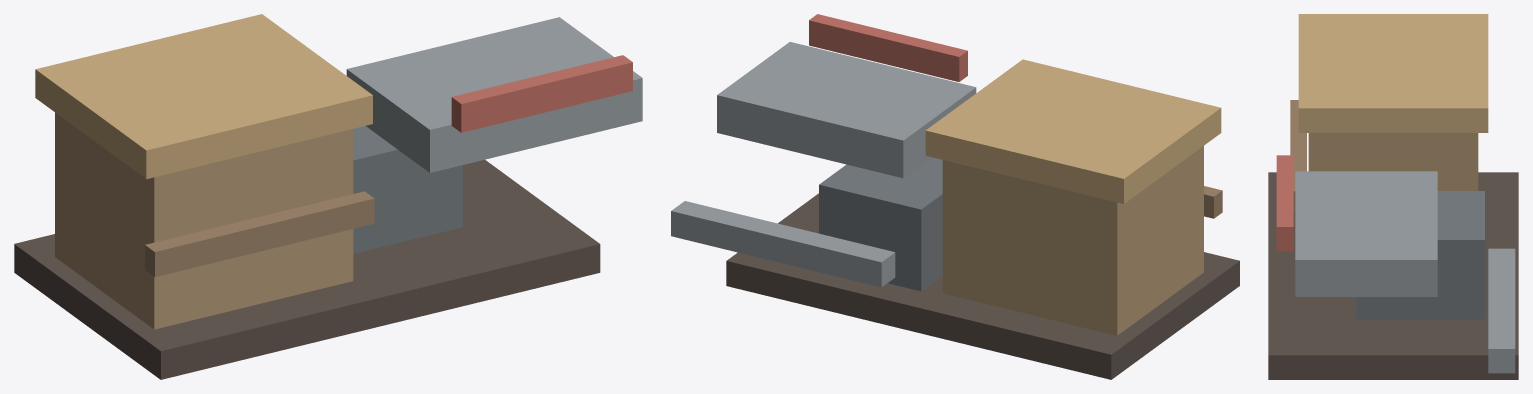
The model's file is cantina_crate_scrap_stack_v1.glb.
3 views of the same model, side by side, from view 1: azimuth 30°, elevation 25°; view 2: azimuth 150°, elevation 25°; view 3: azimuth 270°, elevation 25° (orthographic). The views are drawn at different scales.
Parts seen in each view (by area): view 1: dark_shadow_block, crate_body, crate_lid, scrap_slab, small_side_box, crate_band_front, red_panel; view 2: crate_body, crate_lid, dark_shadow_block, scrap_slab, small_side_box, loose_pipe, red_panel, crate_band_front; view 3: crate_lid, dark_shadow_block, scrap_slab, small_side_box, crate_body, loose_pipe, red_panel, crate_band_front.
Part boxes in pixels (x1,y1,x2,y2): dark_shadow_block: (14, 159, 600, 379); crate_body: (55, 112, 353, 329); crate_lid: (35, 14, 372, 179); scrap_slab: (346, 17, 642, 172); small_side_box: (353, 126, 462, 253); crate_band_front: (145, 191, 374, 276); red_panel: (451, 55, 632, 132); crate_body: (942, 146, 1203, 335); crate_lid: (925, 59, 1221, 203); dark_shadow_block: (726, 193, 1239, 379); scrap_slab: (717, 42, 976, 178); small_side_box: (819, 157, 942, 291); loose_pipe: (671, 201, 895, 287); red_panel: (809, 14, 967, 81); crate_band_front: (1204, 186, 1222, 218); crate_lid: (1298, 14, 1488, 132); dark_shadow_block: (1268, 172, 1518, 379); scrap_slab: (1295, 171, 1437, 296); small_side_box: (1356, 191, 1484, 319); crate_body: (1308, 133, 1478, 190); loose_pipe: (1488, 248, 1515, 373); red_panel: (1276, 155, 1293, 251); crate_band_front: (1290, 100, 1306, 212).
Size of the model in its own units: 1.47 by 0.6 by 0.74.
